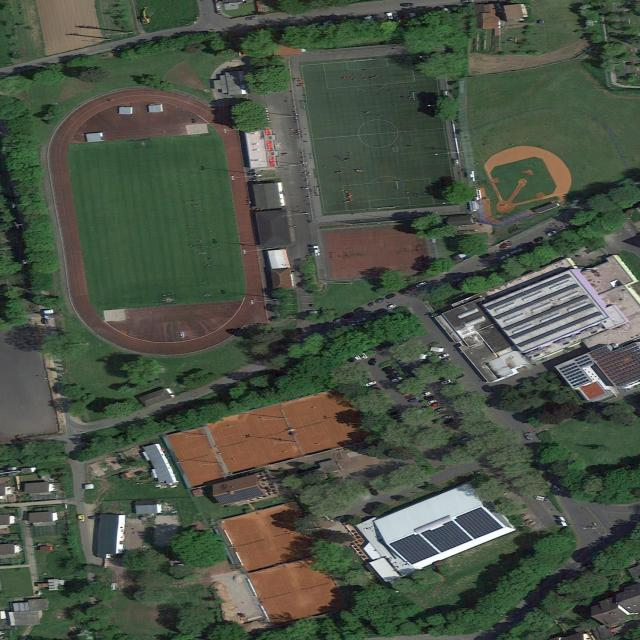small-vehicle: (522, 433, 534, 442), (415, 281, 428, 289), (478, 252, 491, 260), (364, 380, 377, 388), (398, 361, 411, 369), (380, 365, 394, 372), (440, 378, 454, 385), (386, 372, 400, 379), (438, 352, 450, 360), (498, 243, 510, 251), (391, 375, 403, 383), (385, 367, 397, 375), (552, 483, 561, 493), (333, 317, 344, 325), (459, 436, 471, 443), (373, 297, 385, 304), (384, 292, 396, 299), (434, 406, 446, 413), (77, 514, 86, 523), (353, 307, 364, 314), (386, 303, 397, 310), (533, 236, 544, 243), (334, 515, 345, 522), (401, 365, 412, 372), (405, 369, 416, 376), (395, 358, 406, 365), (352, 353, 361, 361), (547, 230, 557, 237), (500, 253, 510, 260), (356, 317, 367, 323), (420, 391, 431, 397), (408, 398, 419, 404), (424, 394, 435, 400), (360, 352, 368, 360), (369, 358, 377, 366), (431, 401, 440, 408), (442, 357, 452, 363), (441, 414, 451, 420), (89, 515, 100, 520), (367, 302, 376, 308), (428, 399, 437, 404), (246, 16, 257, 20), (400, 3, 414, 6), (44, 318, 49, 325)
